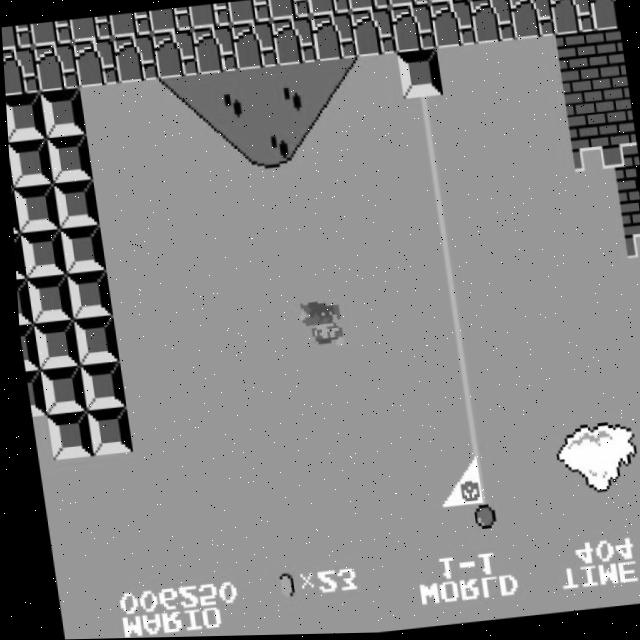11- little_mario: (290, 300, 340, 354)
17- undestructible_block: (71, 38, 119, 88), (190, 25, 238, 75), (309, 13, 357, 63), (428, 0, 476, 50), (349, 9, 397, 58), (32, 42, 79, 92), (111, 34, 158, 84), (230, 21, 277, 71), (270, 17, 317, 67), (389, 4, 436, 54), (151, 30, 198, 79), (468, 0, 516, 46), (508, 0, 555, 42), (2, 46, 38, 96), (547, 0, 594, 37), (28, 20, 73, 47), (147, 7, 192, 34), (187, 3, 232, 30), (108, 11, 152, 38), (68, 16, 113, 42), (227, 0, 271, 26), (587, 0, 619, 34), (266, 0, 311, 21), (1, 23, 32, 50), (306, 0, 350, 17), (346, 0, 390, 13), (386, 0, 430, 8), (426, 0, 470, 5)
7- goal_pole: (431, 323, 479, 373), (425, 278, 473, 327), (450, 460, 497, 510), (401, 95, 448, 145), (456, 505, 503, 554), (444, 414, 491, 463), (438, 369, 485, 418), (413, 187, 460, 236), (407, 142, 454, 191), (419, 233, 466, 281)
9- hard_block: (28, 319, 76, 369), (74, 360, 122, 410), (68, 315, 116, 365), (35, 364, 82, 414), (16, 228, 63, 278), (56, 224, 103, 274), (44, 133, 91, 183), (395, 50, 442, 100), (22, 275, 70, 323), (41, 411, 88, 460), (62, 270, 109, 319), (50, 179, 97, 228), (38, 88, 85, 137), (10, 184, 57, 232), (81, 407, 128, 455), (6, 137, 51, 187), (4, 91, 45, 141), (20, 369, 41, 416), (15, 323, 35, 370), (13, 279, 29, 325), (11, 232, 23, 279), (9, 188, 17, 234)
